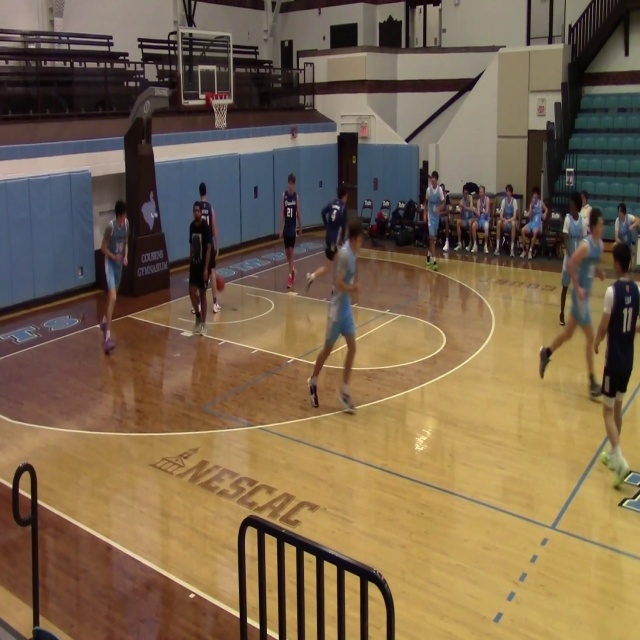Basketball: (208, 275, 225, 292), (216, 275, 225, 291)
